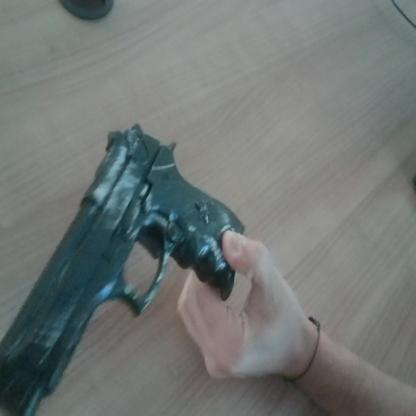handgun: (3, 104, 272, 398)
